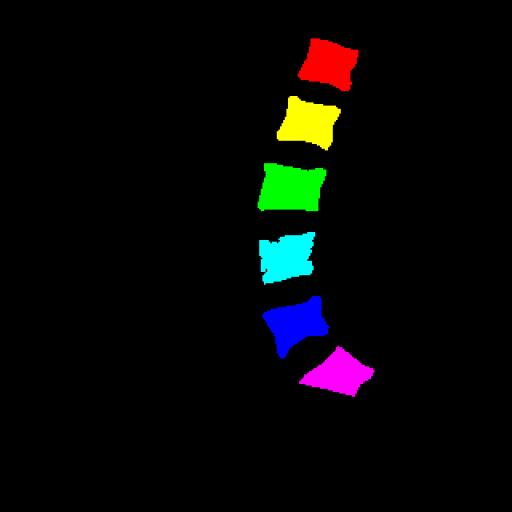L1: (298, 38, 358, 90)
L2: (276, 95, 341, 150)
L3: (258, 163, 326, 211)
L4: (259, 232, 315, 284)
L5: (263, 296, 328, 358)
S1: (299, 346, 374, 396)
